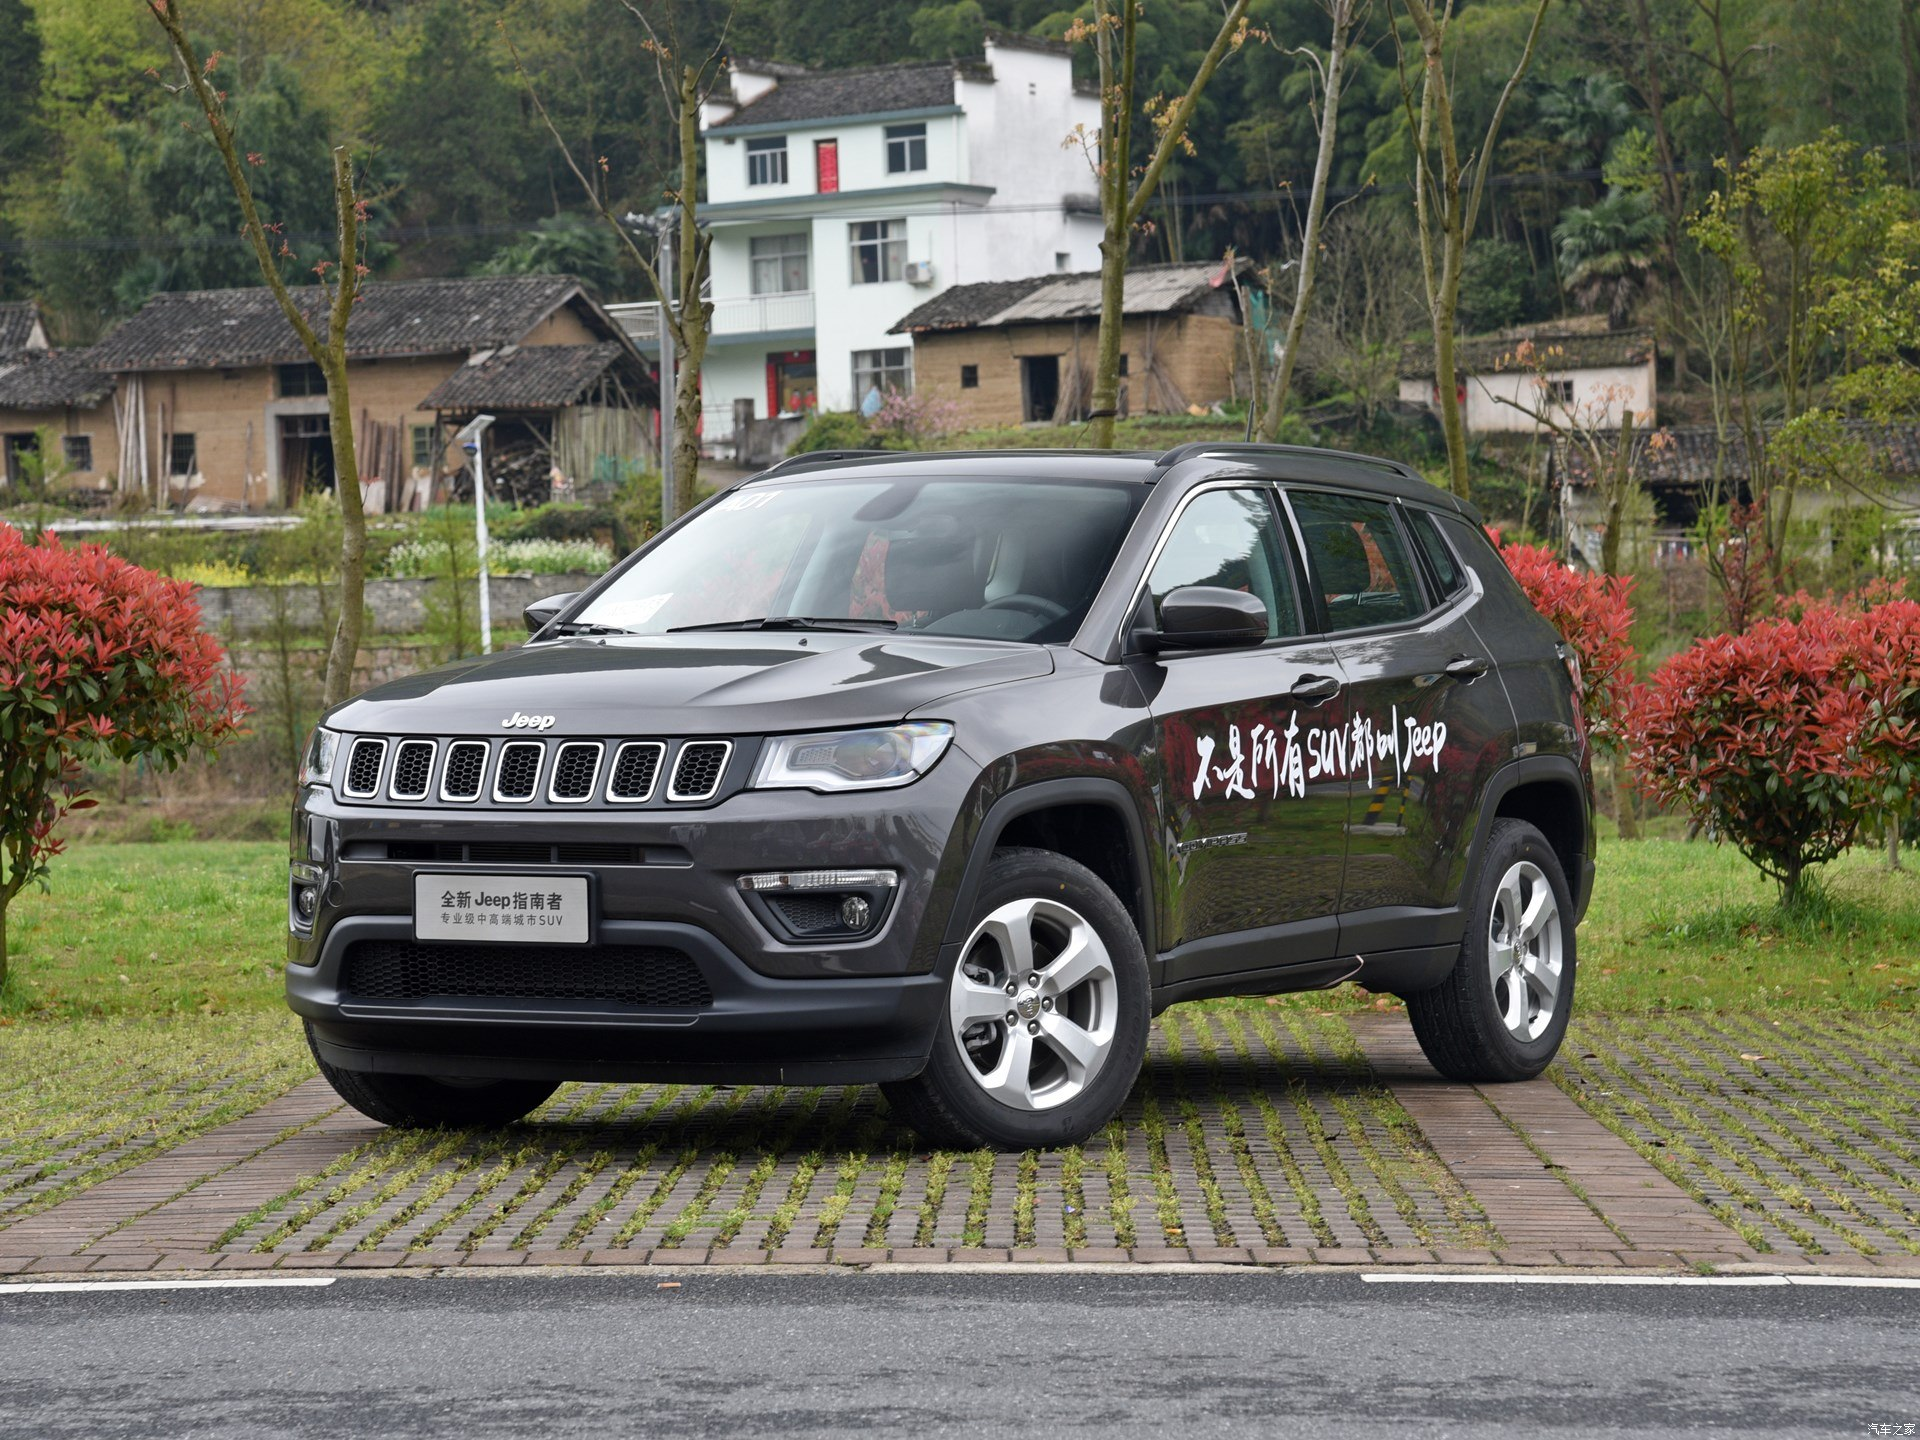car: (197, 334, 1633, 1169)
